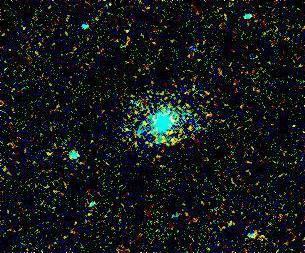star: (278, 113, 305, 143)
